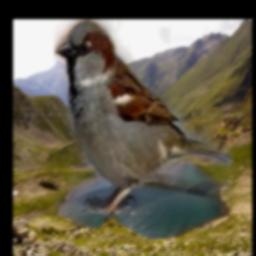Sparrow: (55, 19, 234, 215)
